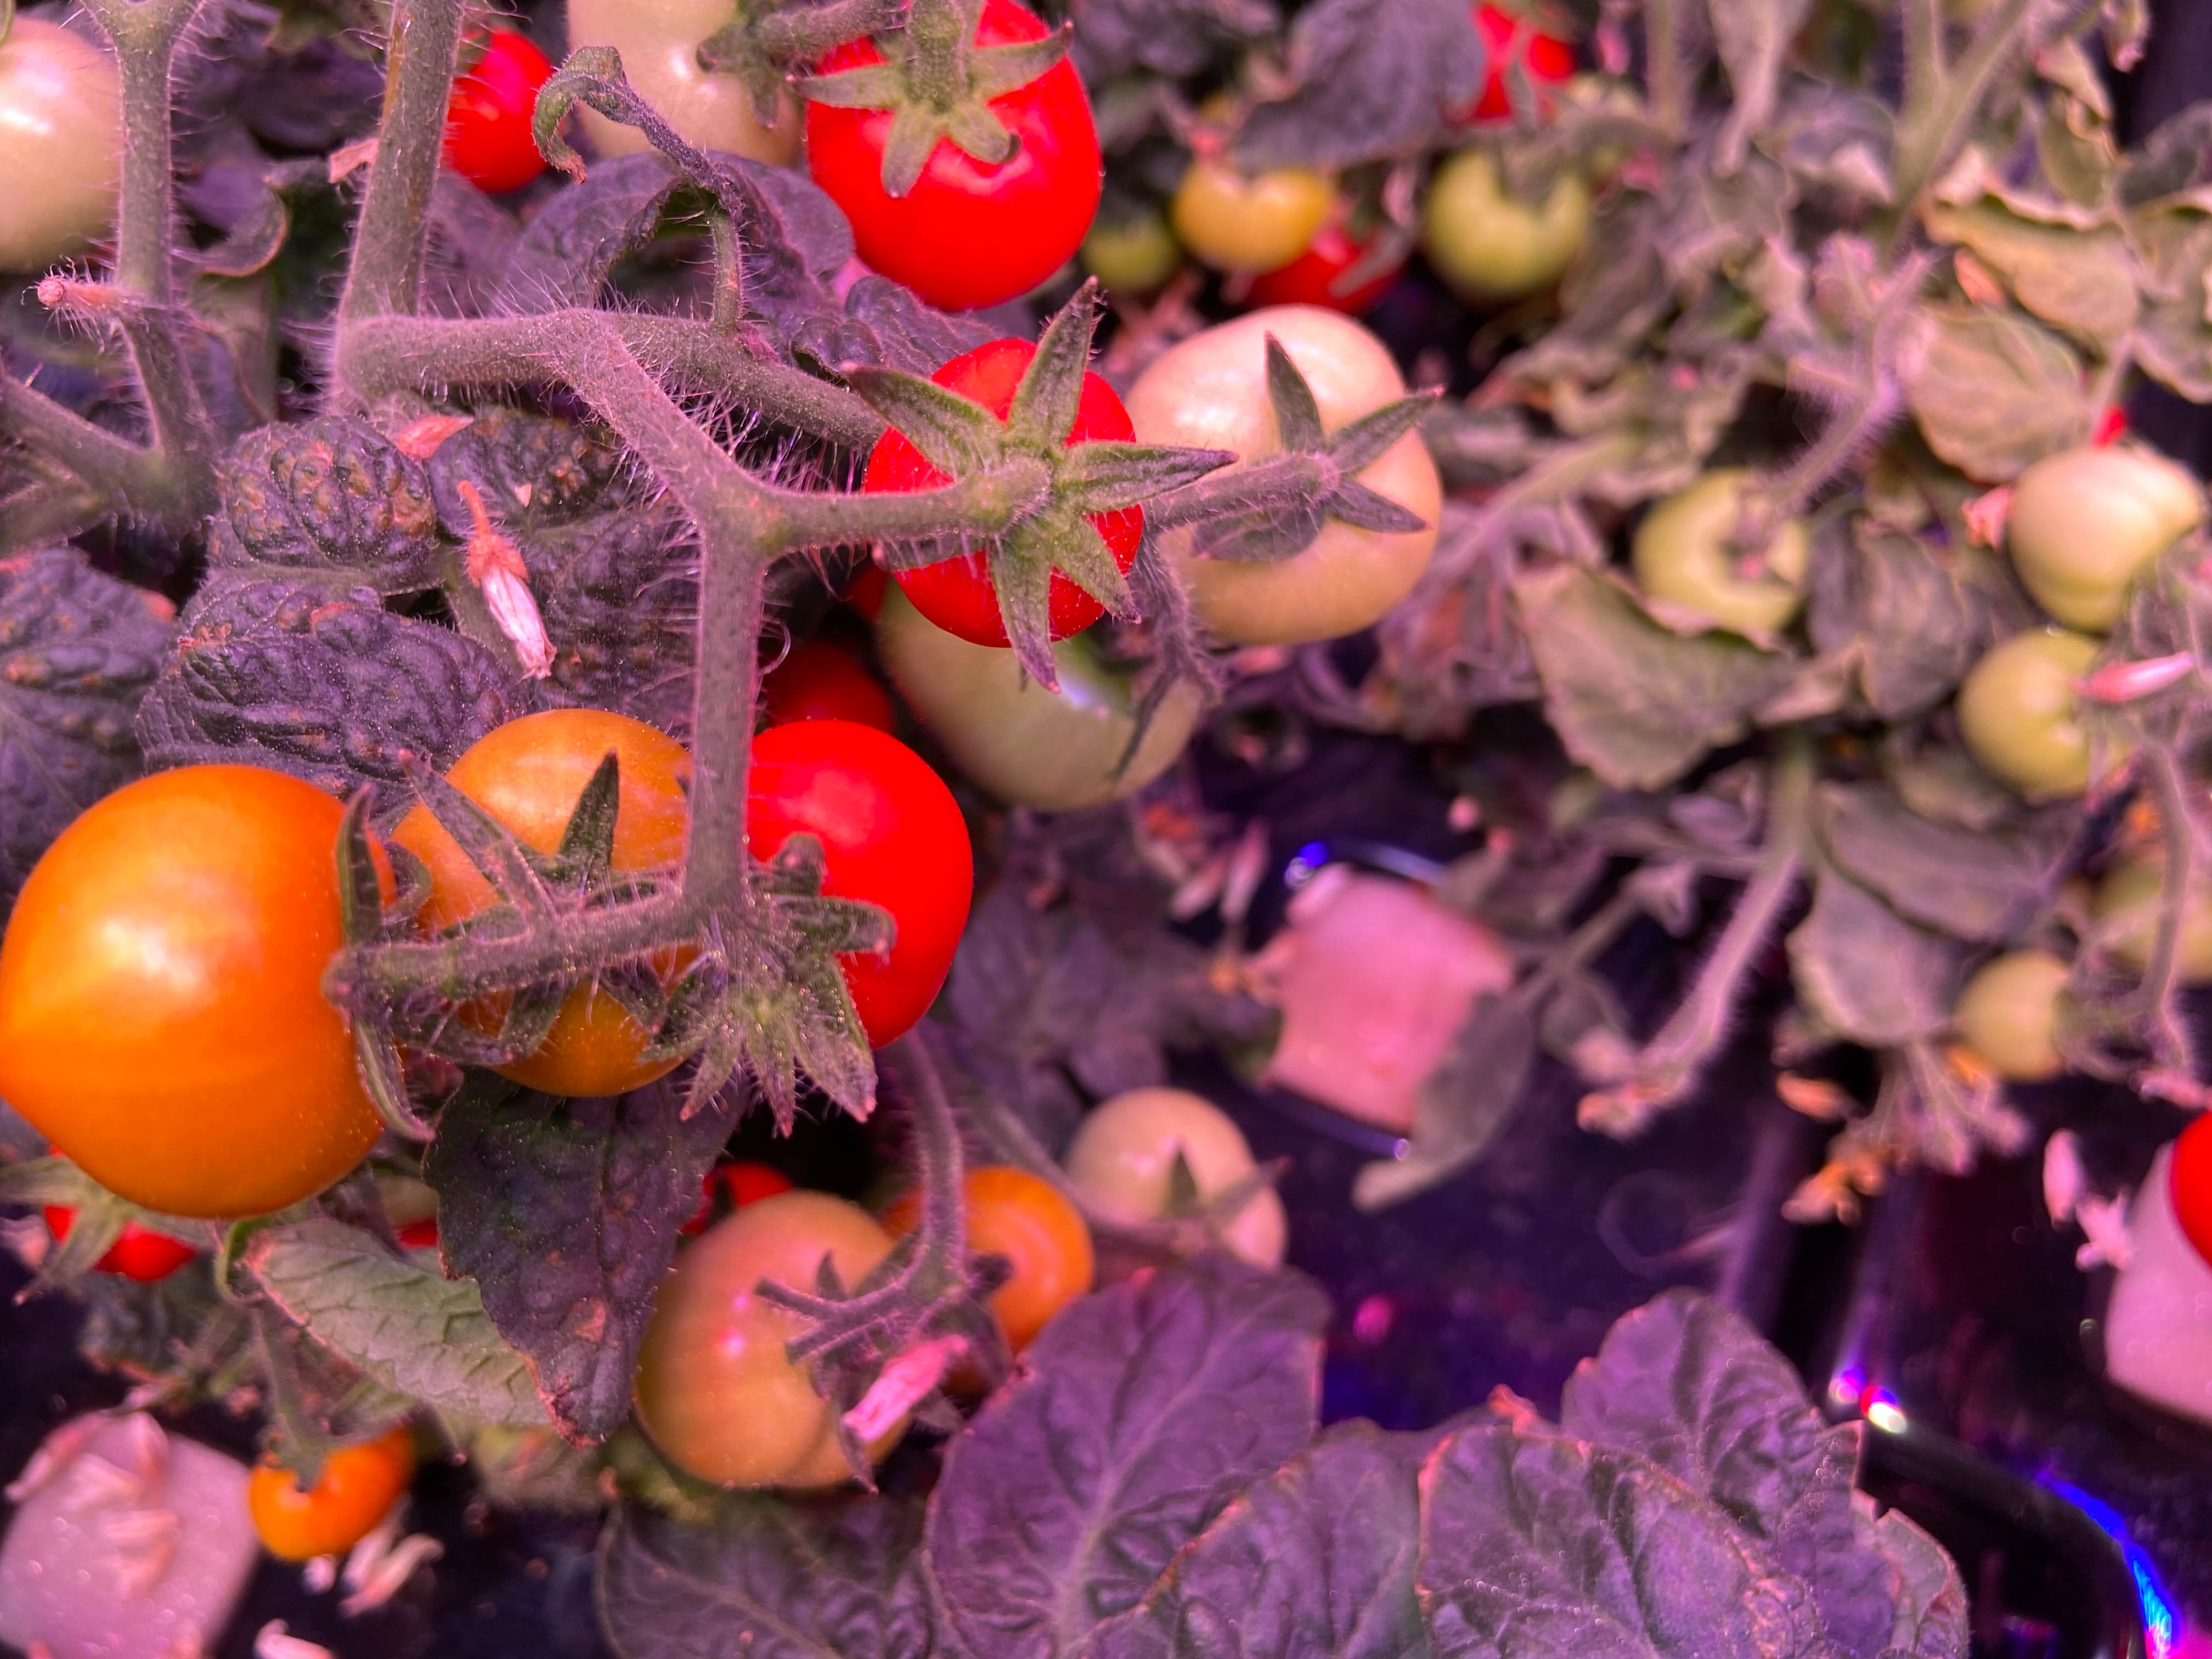green: (1108, 300, 1446, 650), (631, 1183, 930, 1485), (880, 559, 1198, 809), (575, 0, 848, 179), (1061, 1086, 1280, 1286), (2003, 434, 2209, 634), (0, 19, 136, 275), (1954, 620, 2130, 800), (1629, 474, 1817, 638), (1420, 143, 1595, 298), (1172, 152, 1338, 277), (2087, 821, 2212, 983), (1954, 950, 2092, 1082), (1085, 192, 1195, 298)
red: (0, 755, 408, 1223), (399, 704, 745, 1103), (669, 713, 979, 1066), (855, 331, 1150, 648), (810, 2, 1104, 312), (885, 1161, 1096, 1373), (416, 17, 573, 193), (249, 1408, 409, 1561), (752, 626, 906, 755), (35, 1185, 197, 1293), (1456, 7, 1581, 127), (2167, 1082, 2212, 1298)
